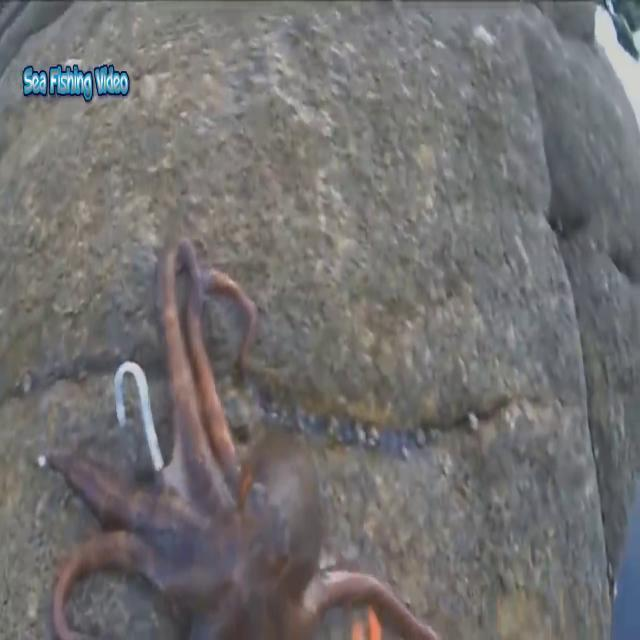octopus: (31, 235, 439, 640)
